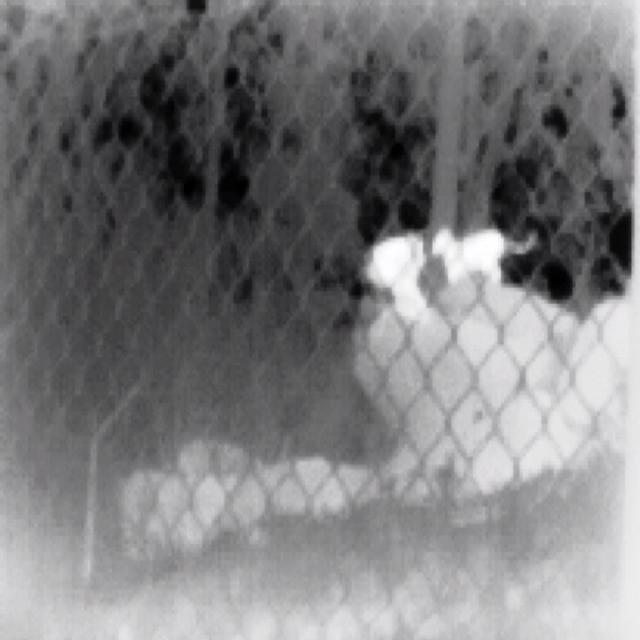cheetah: (432, 227, 537, 285), (364, 237, 425, 312)
